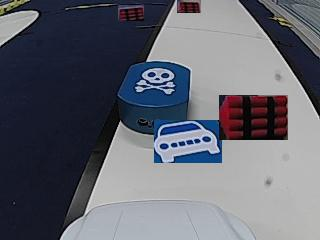danger: (135, 68, 173, 94)
